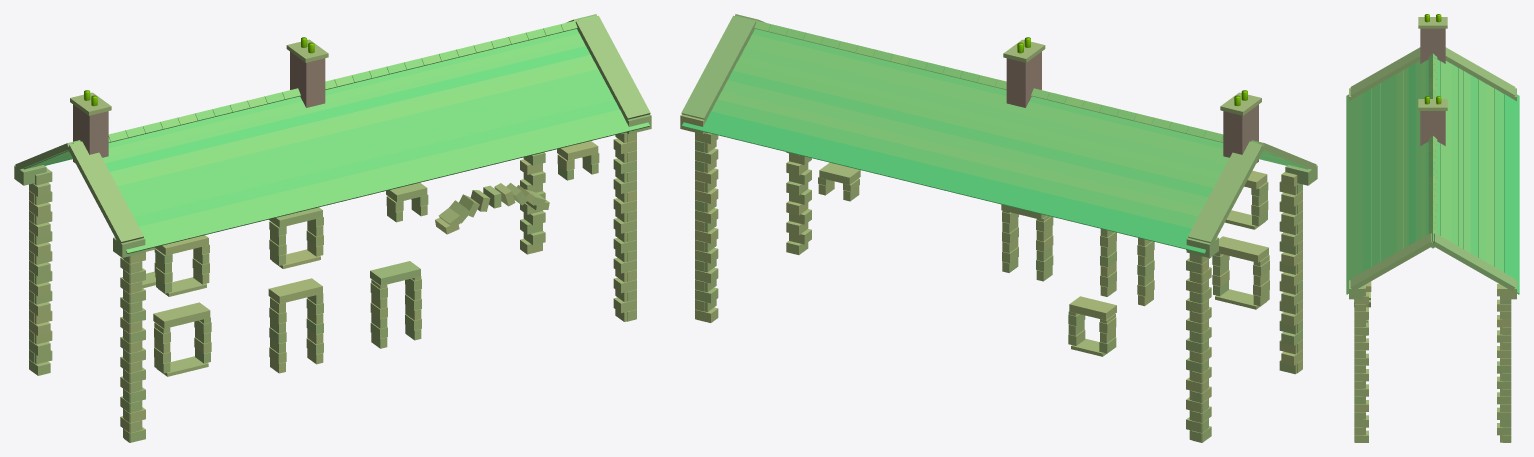
Rendered from SM_Bld_181_Stone.glb.
3 renders of one model, left to right at view 1: azimuth 30°, elevation 25°; view 2: azimuth 150°, elevation 25°; view 3: azimuth 270°, elevation 25°, orthographic. The views are drawn at different scales.
Visible parts, largest first — view 1: SM_Bld_181_Stone; view 2: SM_Bld_181_Stone; view 3: SM_Bld_181_Stone.
Boxes of the visible parts, x1,y1,x2,y2 form: SM_Bld_181_Stone: [14, 14, 651, 442]; SM_Bld_181_Stone: [680, 14, 1317, 442]; SM_Bld_181_Stone: [1346, 14, 1519, 442].
Bounding box in the file's own units: 16.72 × 9.33 × 6.11.
